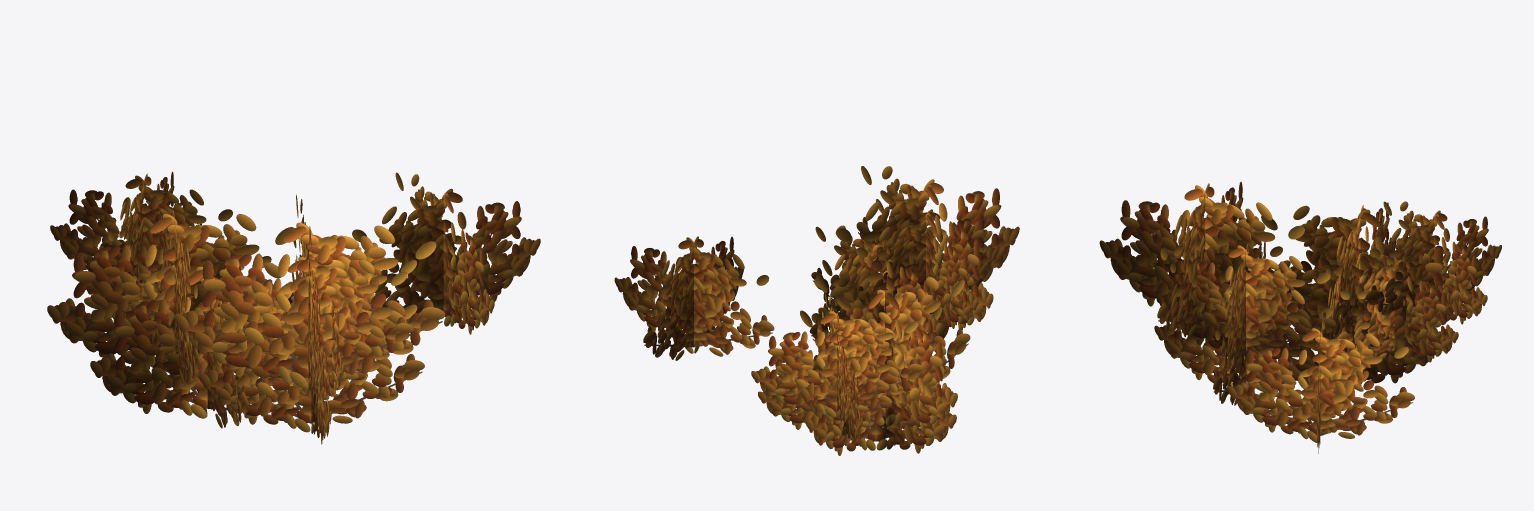
File: bush1_autumn.fbx
The picture shows the model from 3 angles, left to right: view 1: azimuth 30°, elevation 25°; view 2: azimuth 150°, elevation 25°; view 3: azimuth 270°, elevation 25°; orthographic projection. The views are drawn at different scales.
Parts seen in each view (by area): view 1: bush1_autumn; view 2: bush1_autumn; view 3: bush1_autumn.
Part boxes in pixels (left/top/right/bottom): bush1_autumn: left=47, top=171, right=540, bottom=444; bush1_autumn: left=614, top=166, right=1019, bottom=455; bush1_autumn: left=1099, top=182, right=1501, bottom=453.
Bounding box in the file's own units: 2.17 × 1.62 × 1.97.
Materials: 1 (1 with a texture image).
